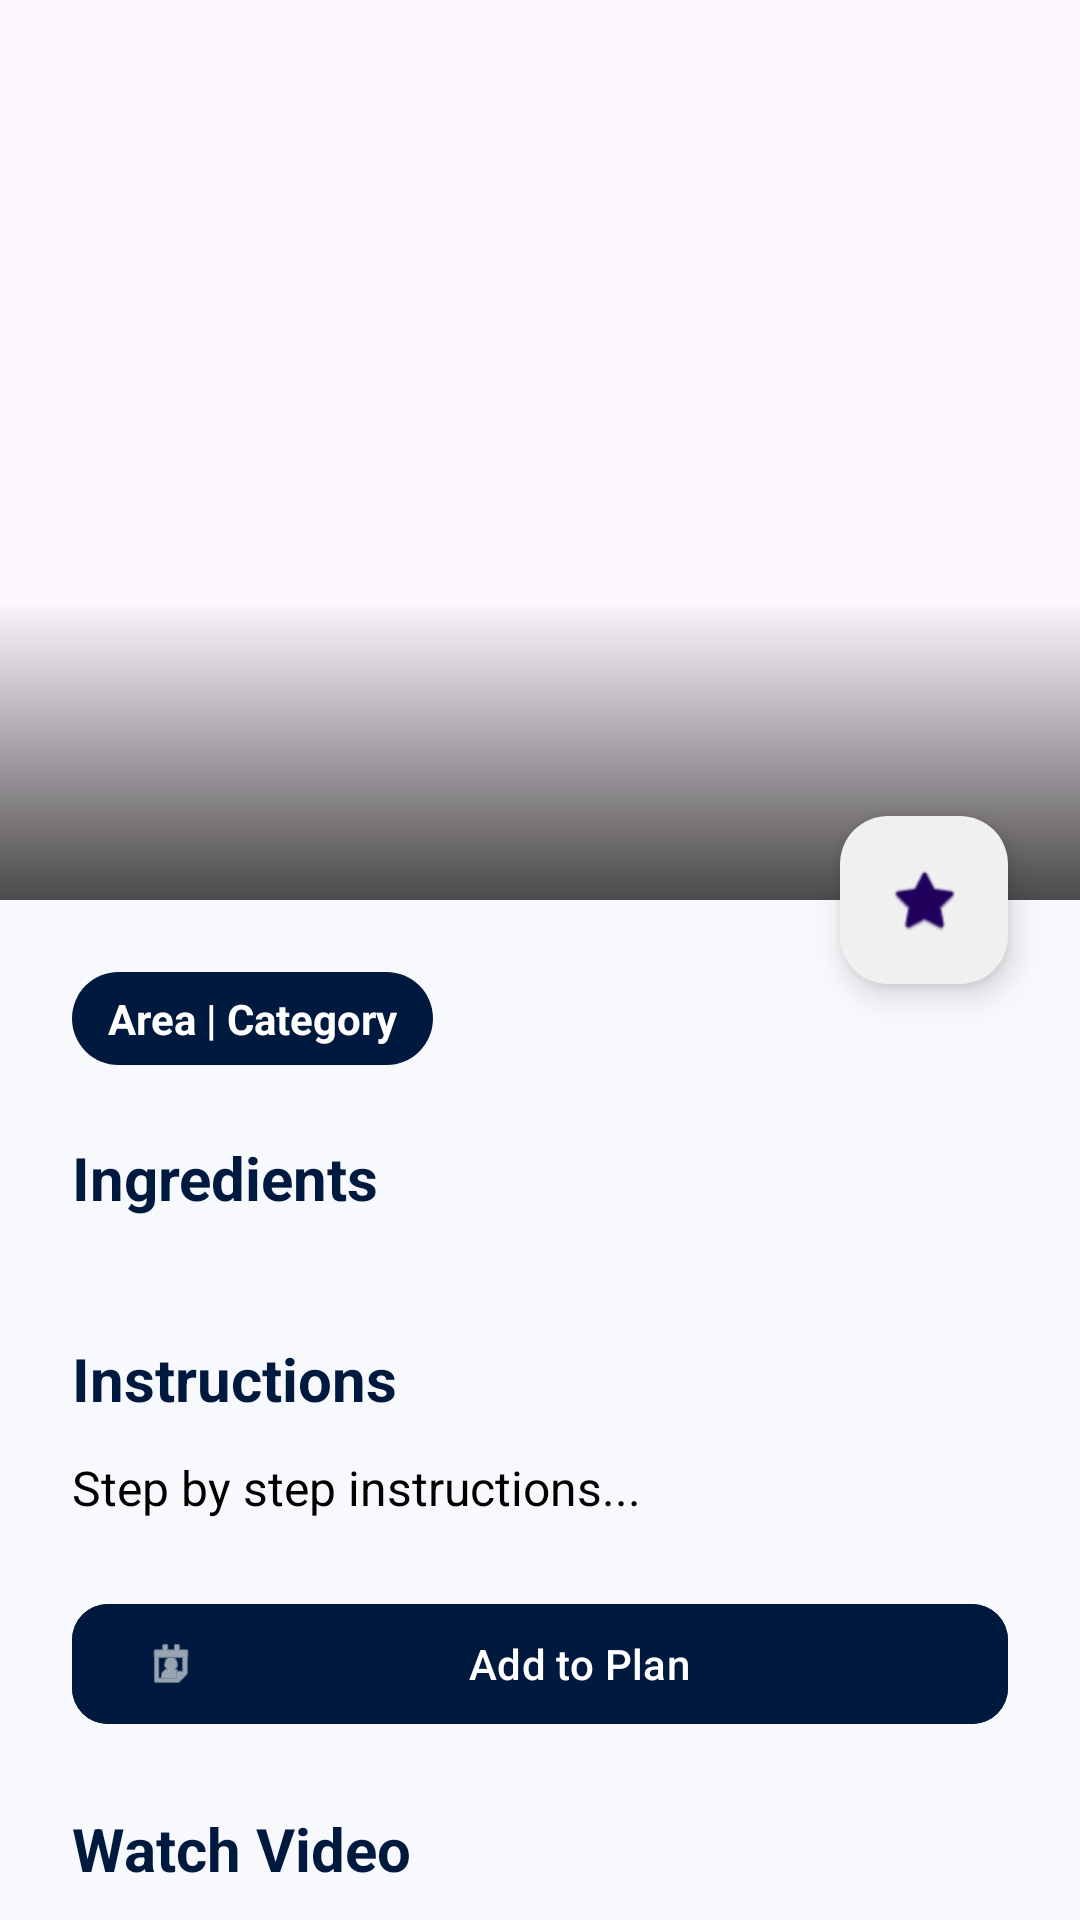

Named icons in this screenshot (1080*1920) and their centers, point (x, y):
Favorite: point (924, 900)
